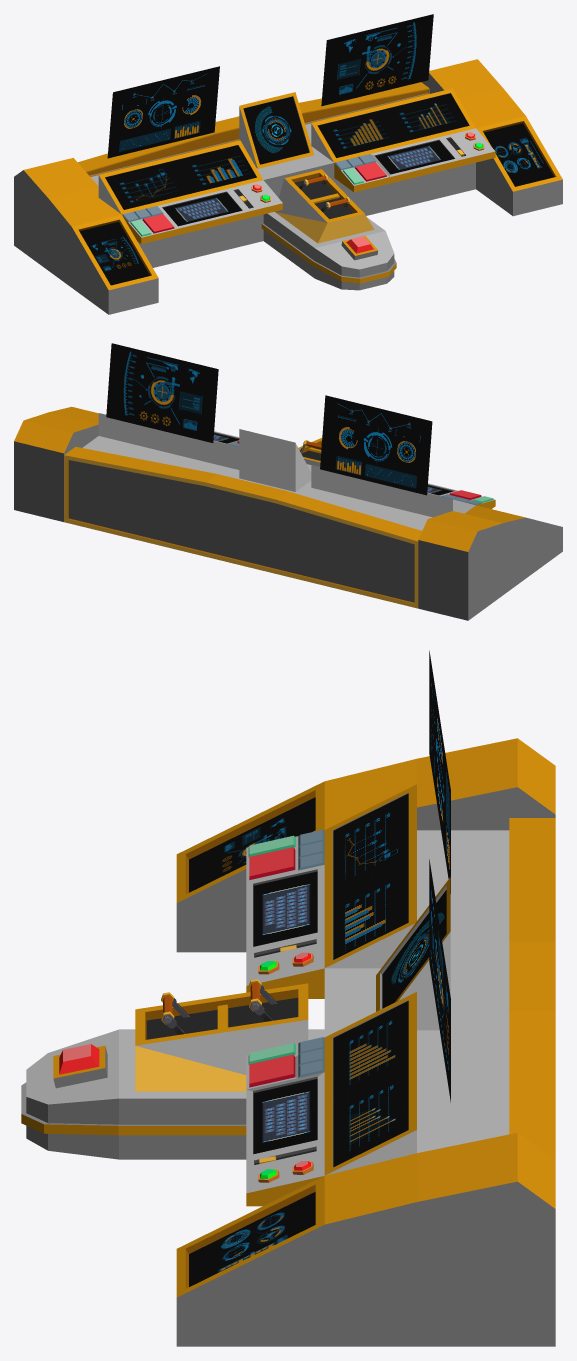
File: CommandControl_01.glb
3 views of the same model, one above another, from view 1: azimuth 30°, elevation 25°; view 2: azimuth 150°, elevation 25°; view 3: azimuth 270°, elevation 25° (orthographic). The views are drawn at different scales.
Parts seen in each view (by area): view 1: CommandControl_01; view 2: CommandControl_01; view 3: CommandControl_01.
Boxes of the visible parts, bbox=[...] form: CommandControl_01: bbox=[14, 14, 562, 314]; CommandControl_01: bbox=[14, 343, 562, 620]; CommandControl_01: bbox=[21, 650, 555, 1346].
Size of what is drawn, in the model's own units: 5.7 by 1.92 by 2.9.
Materials: 2 (2 with a texture image).
